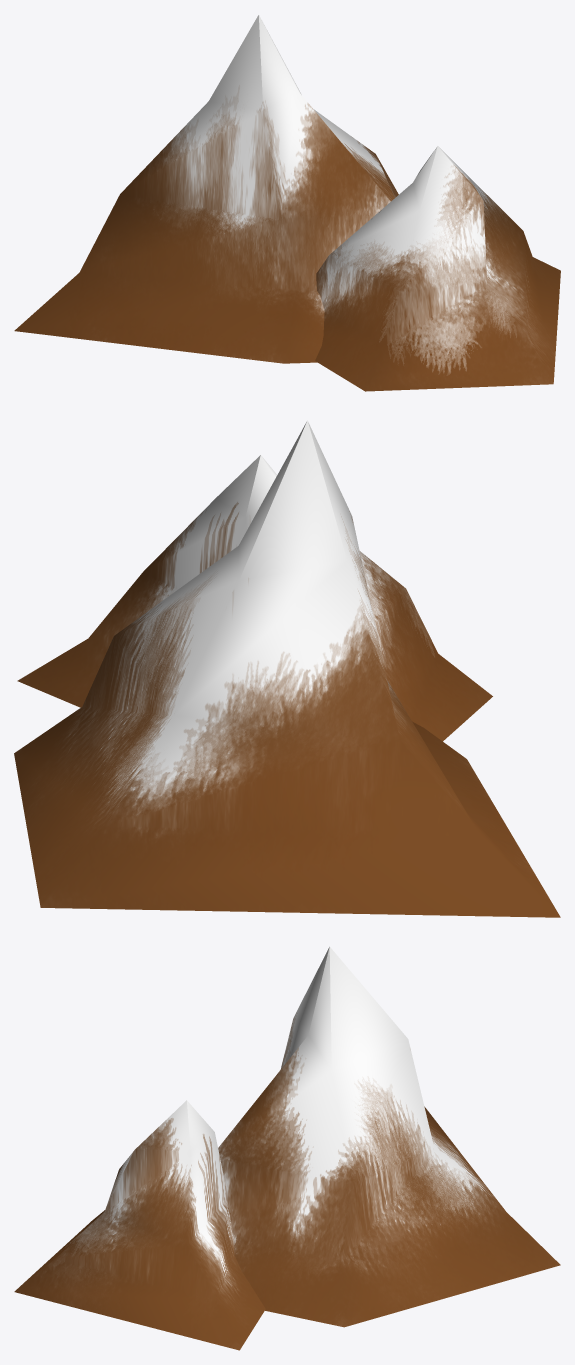
Rendered from Mountain.fbx.
3 renders of one model, top to bottom at view 1: azimuth 30°, elevation 25°; view 2: azimuth 150°, elevation 25°; view 3: azimuth 270°, elevation 25°, orthographic. The views are drawn at different scales.
Parts seen in each view (by area): view 1: Mountain; view 2: Mountain; view 3: Mountain.
Boxes of the visible parts, x1,y1,x2,y2 form: Mountain: [14, 15, 560, 391]; Mountain: [14, 420, 560, 917]; Mountain: [14, 946, 560, 1350].
Size of the model in its own units: 29.24 by 17.01 by 29.88.
